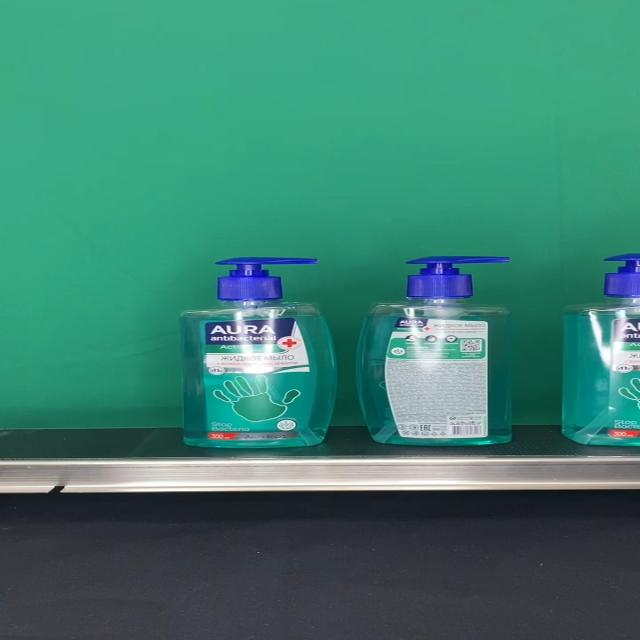Bottle: (178, 257, 338, 448), (355, 256, 514, 446)
Cap: (217, 257, 318, 300), (403, 256, 508, 297)
